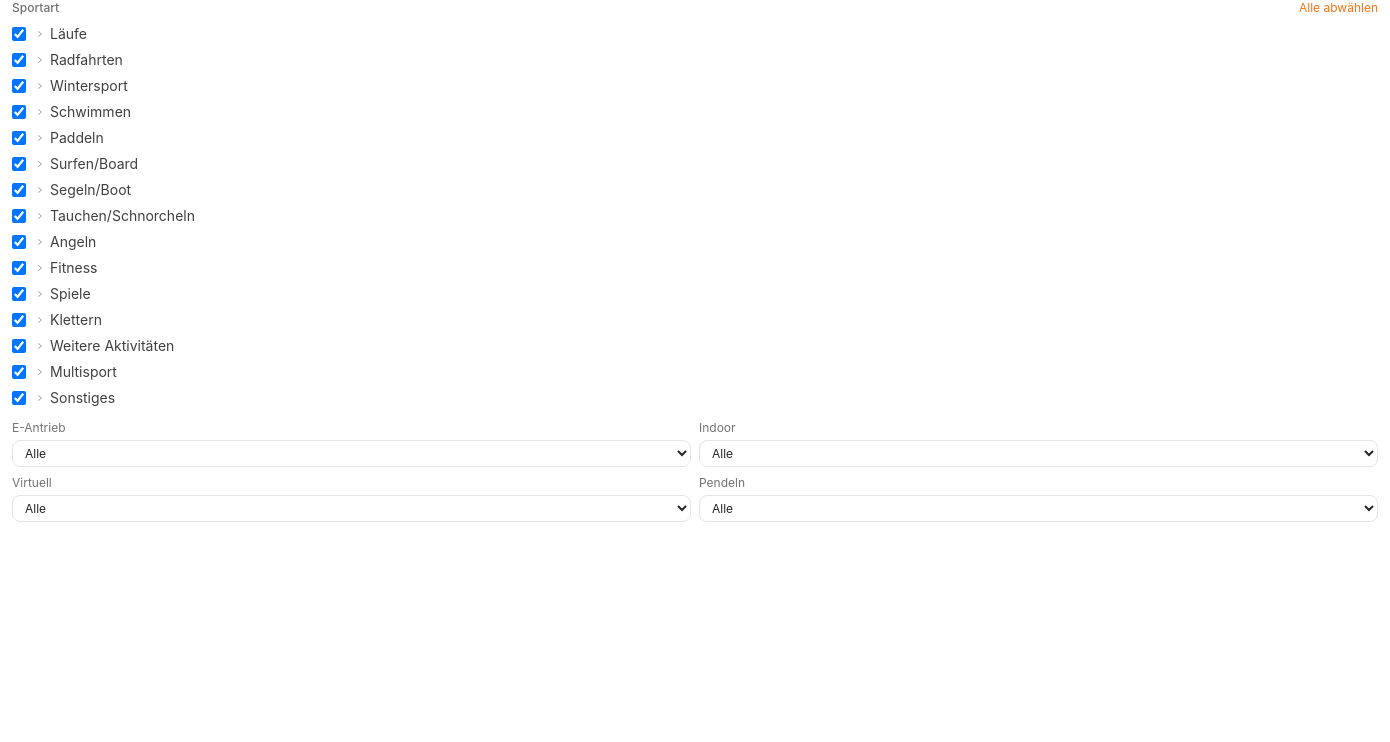
Test: SportFilter › renders newly canonical taxonomy sports in generated UI groups
Click the button "Läufe": (60, 34) [34,24,87,44]
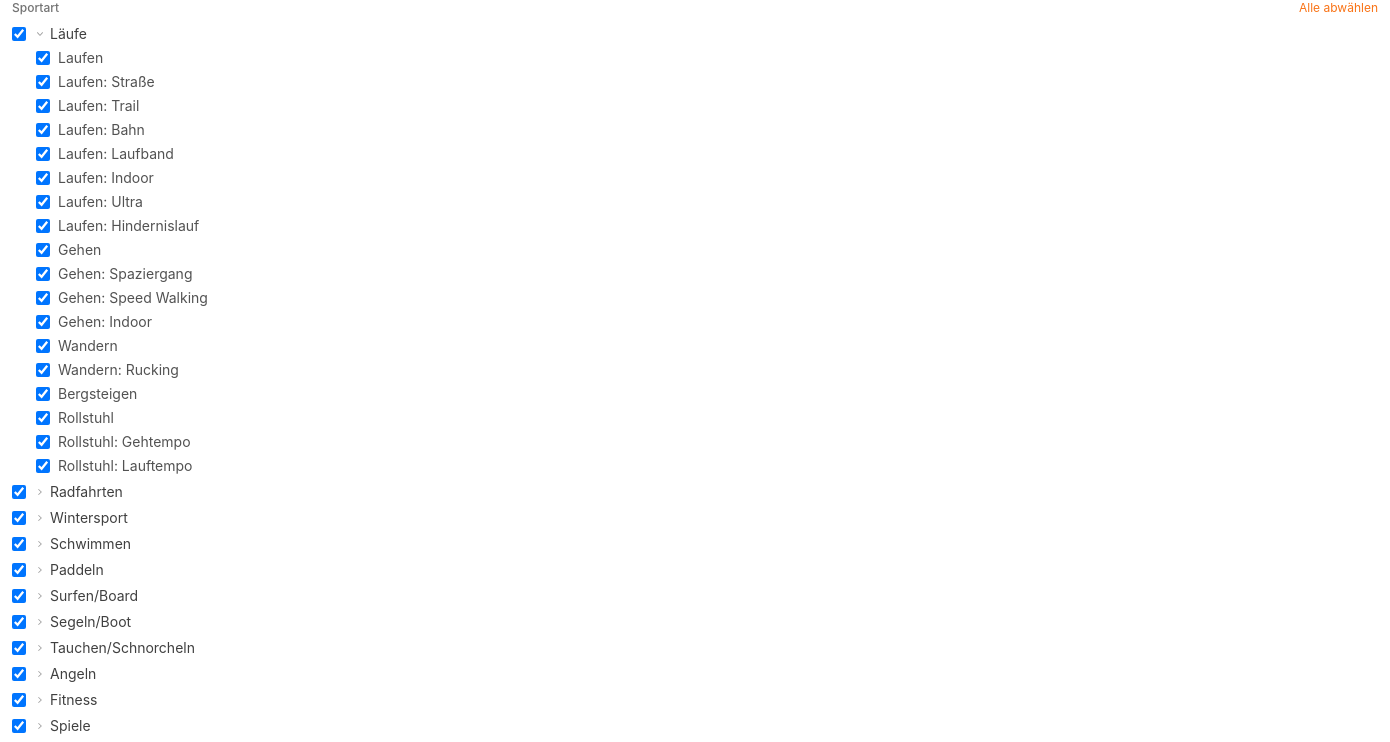
Check: the text "Wandern: Rucking" is shown, box [58,360,179,380]
Click the button "Fitness": (66, 700) [34,690,98,710]
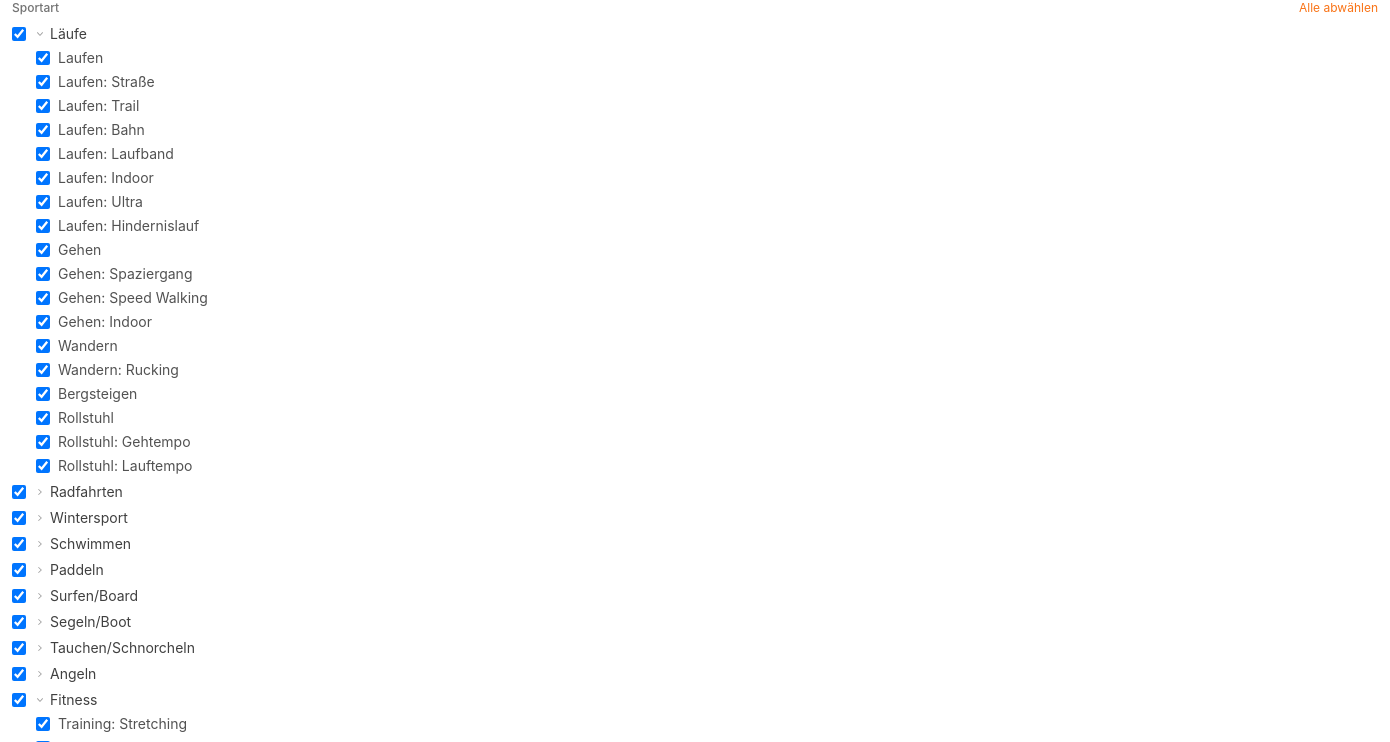
Click the button "Tauchen/Schnorcheln": (114, 648) [34,638,195,658]
(page scrolled)
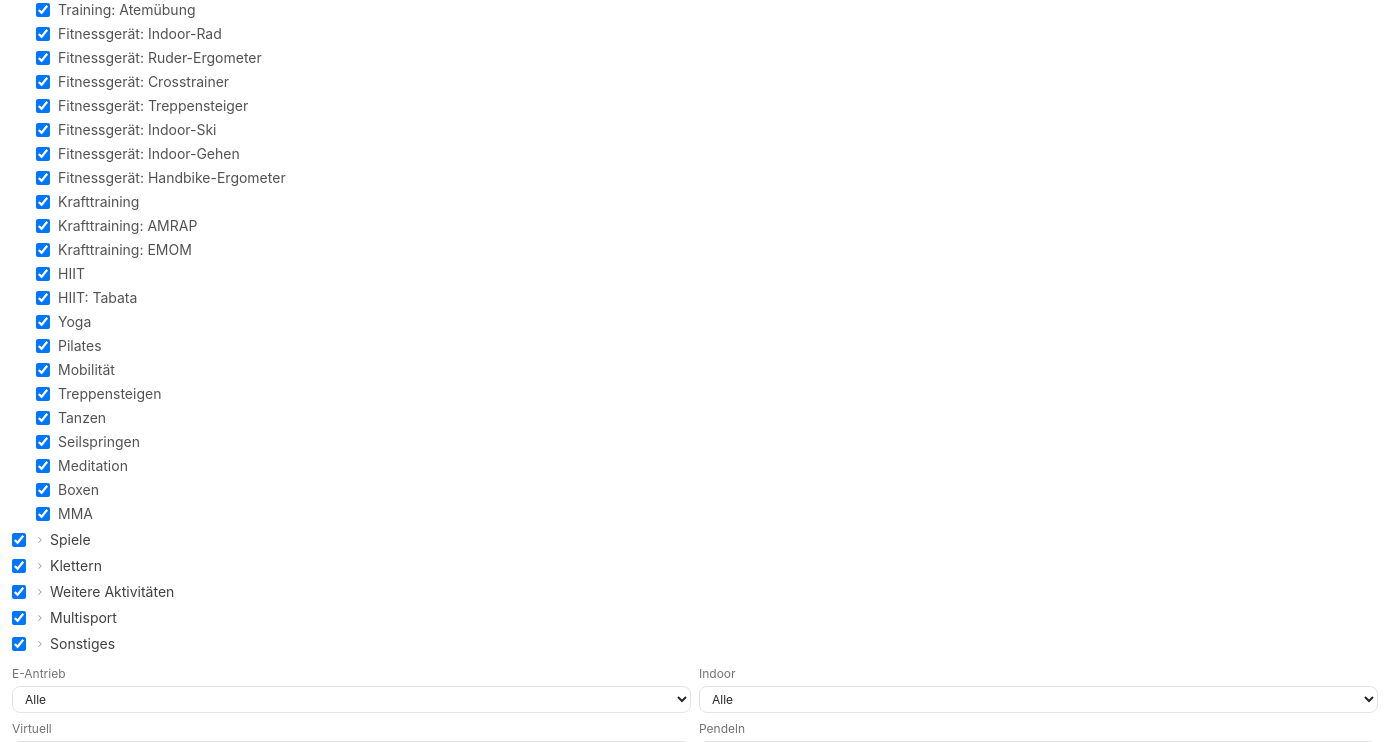
Click the button "Weitere Aktivitäten": (104, 592) [34,582,174,602]
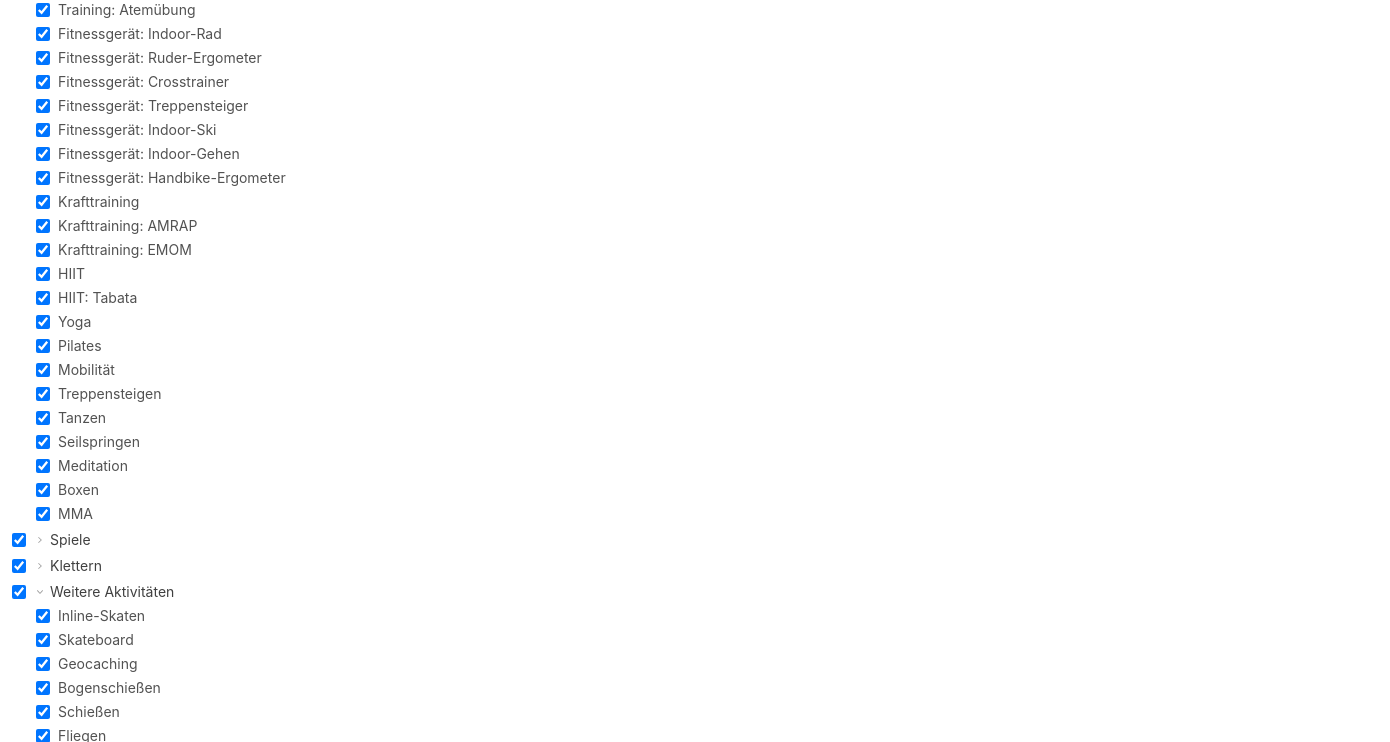
Check: the text "Geocaching" is shown, box [58,654,138,674]
Check: the text "Bogenschießen" is shown, box [58,678,161,698]
Check: the text "Schießen" is shown, box [58,702,120,722]
